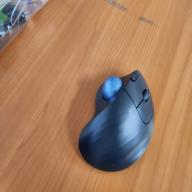mouse: (78, 69, 156, 173)
